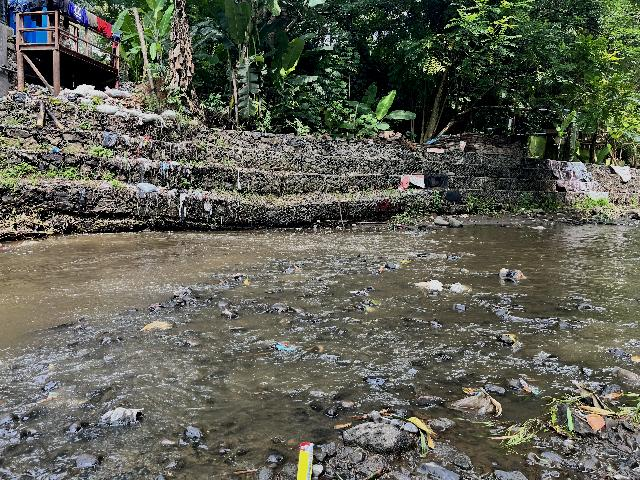Sampah Anorganik: (446, 389, 504, 419), (298, 438, 313, 480), (496, 266, 529, 285), (270, 339, 303, 355), (517, 376, 542, 397), (412, 278, 445, 291), (344, 288, 369, 298), (450, 282, 468, 294), (397, 259, 411, 266), (315, 275, 322, 281)
Sampah Organik: (543, 391, 640, 422), (481, 421, 565, 453), (395, 412, 439, 453), (29, 393, 60, 406), (141, 321, 173, 332), (503, 331, 520, 348), (361, 305, 378, 314), (347, 413, 367, 420), (146, 302, 163, 310), (331, 422, 352, 428), (231, 469, 258, 473), (367, 301, 382, 308), (630, 354, 640, 362), (292, 265, 302, 272), (243, 277, 250, 285), (315, 290, 326, 294), (217, 281, 225, 285), (377, 268, 383, 272), (298, 297, 306, 300)
